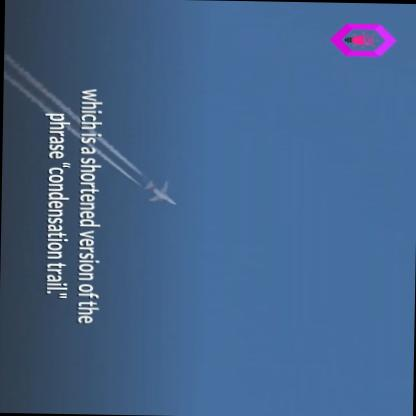plane: (140, 175, 179, 212)
